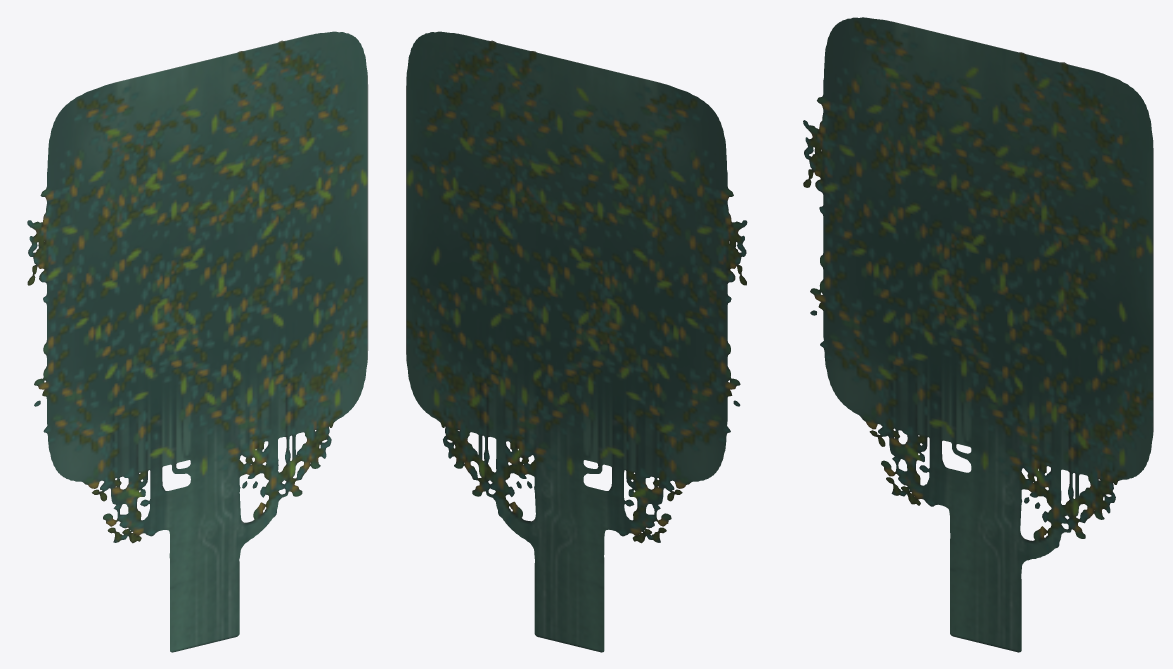
The model's file is Arbre_02.fbx.
3 views of the same model, side by side, from view 1: azimuth 30°, elevation 25°; view 2: azimuth 150°, elevation 25°; view 3: azimuth 330°, elevation 25° (orthographic). The views are drawn at different scales.
Parts seen in each view (by area): view 1: Arbre_02; view 2: Arbre_02; view 3: Arbre_02.
Boxes of the visible parts, bbox=[...] form: Arbre_02: bbox=[27, 31, 368, 652]; Arbre_02: bbox=[406, 31, 747, 652]; Arbre_02: bbox=[803, 17, 1153, 652].
Bounding box in the file's own units: 2.68 × 4.2 × 0.02.
